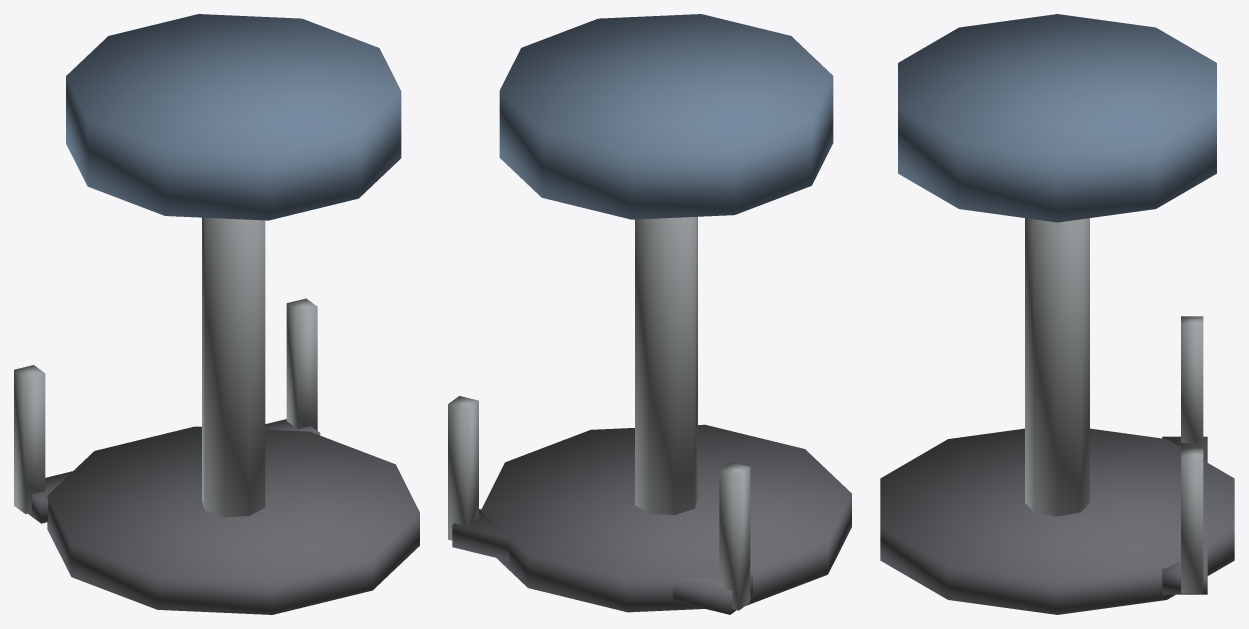
File: lab_stool__reinforced.glb
The picture shows the model from 3 angles, left to right: view 1: azimuth 30°, elevation 25°; view 2: azimuth 150°, elevation 25°; view 3: azimuth 270°, elevation 25°; orthographic projection.
Visible parts, largest first — view 1: world; view 2: world; view 3: world.
Boxes of the visible parts, x1,y1,x2,y2 form: world: [14, 14, 419, 614]; world: [448, 14, 851, 614]; world: [880, 14, 1234, 614].
Bounding box in the file's own units: 0.412 × 0.5508 × 0.3918.
